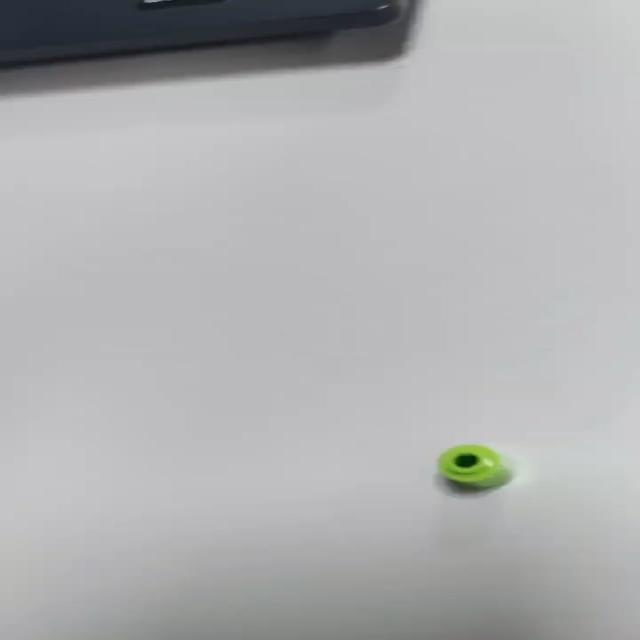S1x1x1: (431, 442, 518, 494)
